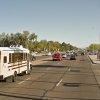Bus: (1, 42, 33, 79)
